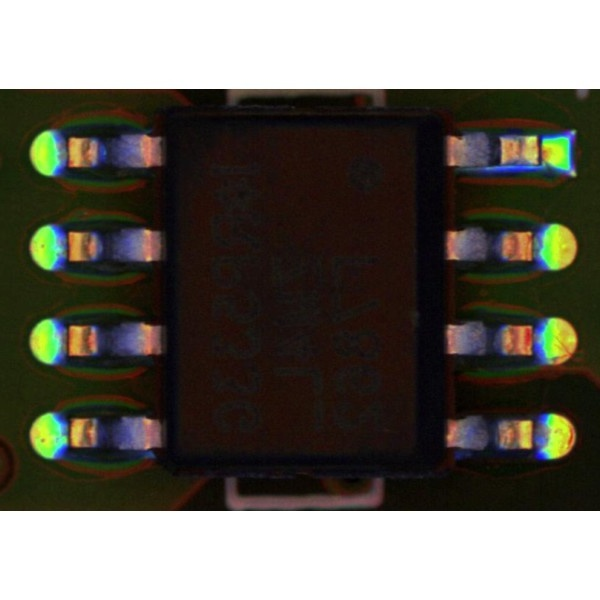Bad_podu: (526, 144, 552, 160)
